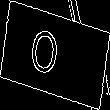O_S: (38, 26, 72, 84)
